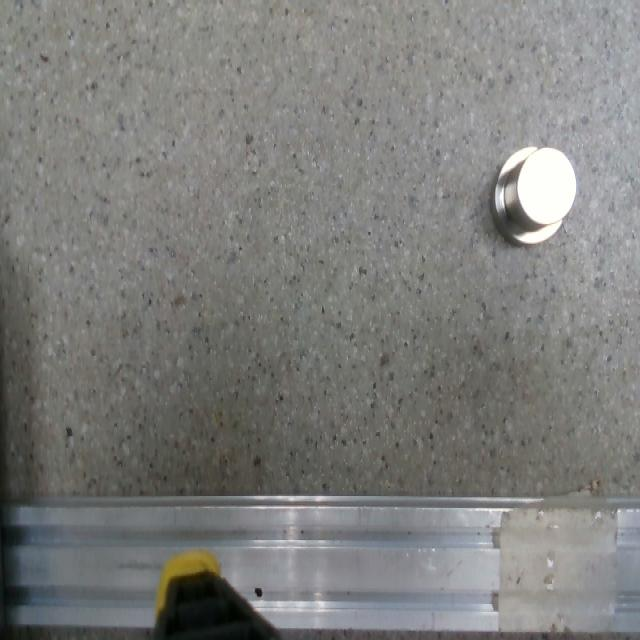sensor: (488, 142, 578, 250)
